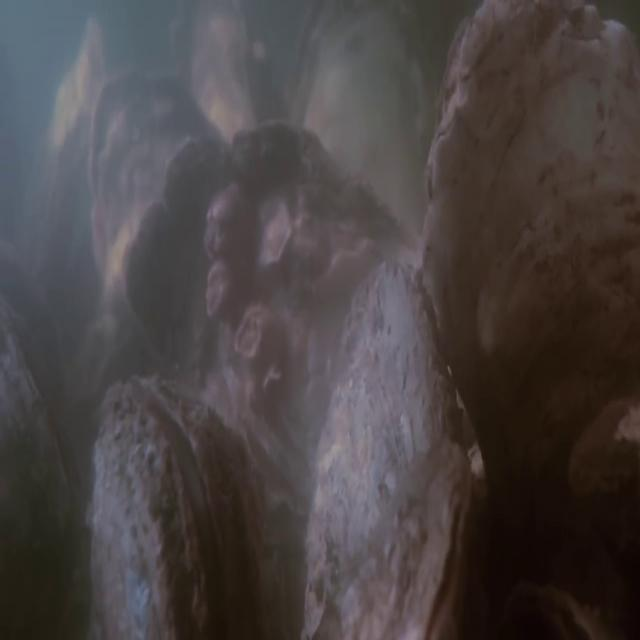Oyster-Closed: (302, 252, 477, 631), (88, 369, 276, 639), (2, 292, 86, 614)
Oyster-Indeterminate: (124, 116, 425, 523), (414, 5, 638, 514), (85, 63, 225, 304), (288, 10, 427, 229), (179, 5, 270, 130), (510, 577, 607, 635)
